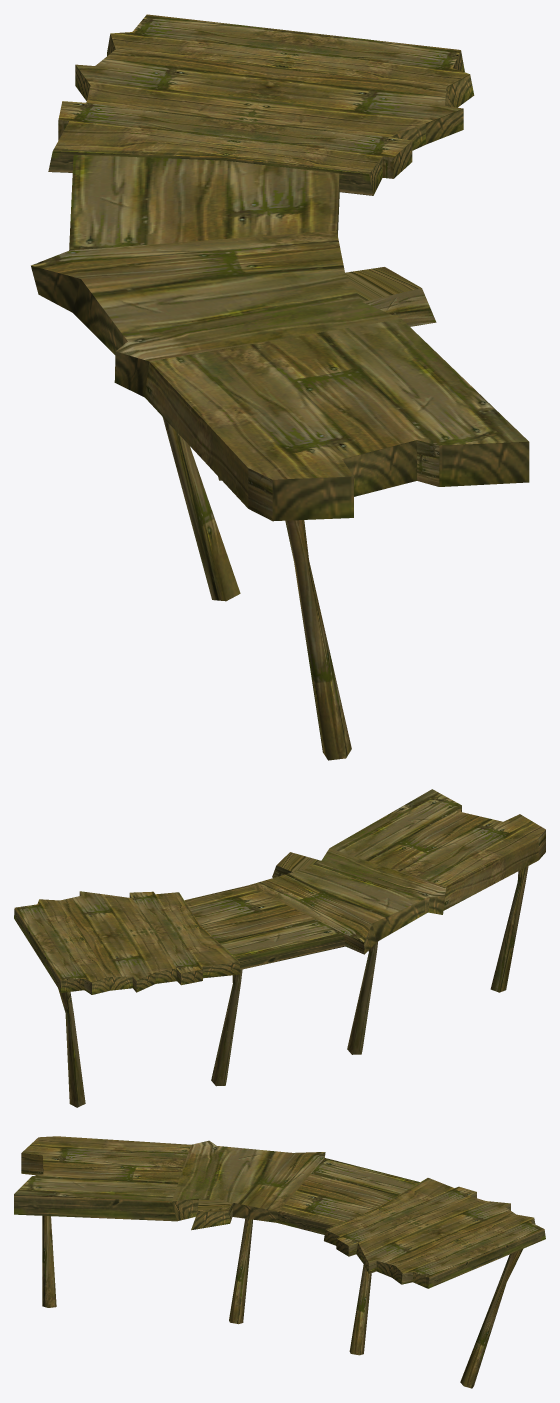
The model's file is SL_qiao02.FBX.
3 views of the same model, one above another, from view 1: azimuth 30°, elevation 25°; view 2: azimuth 150°, elevation 25°; view 3: azimuth 270°, elevation 25° (orthographic). The views are drawn at different scales.
Parts seen in each view (by area): view 1: 对象46, 对象320, 对象321; view 2: 对象46, 对象320, 对象26, 对象322, 对象321; view 3: 对象46, 对象26, 对象321, 对象320, 对象322.
Boxes of the visible parts, x1,y1,x2,y2 form: 对象46: [31, 14, 529, 521]; 对象320: [285, 520, 351, 760]; 对象321: [162, 417, 240, 601]; 对象46: [14, 789, 545, 994]; 对象320: [490, 866, 528, 992]; 对象26: [58, 988, 85, 1107]; 对象322: [211, 969, 242, 1086]; 对象321: [347, 941, 378, 1054]; 对象46: [14, 1136, 545, 1288]; 对象26: [460, 1249, 522, 1388]; 对象321: [229, 1218, 252, 1324]; 对象320: [42, 1216, 56, 1307]; 对象322: [349, 1265, 371, 1355].
Bounding box in the file's own units: 4.92 × 2.44 × 7.71.
1 material, 1 textured.
